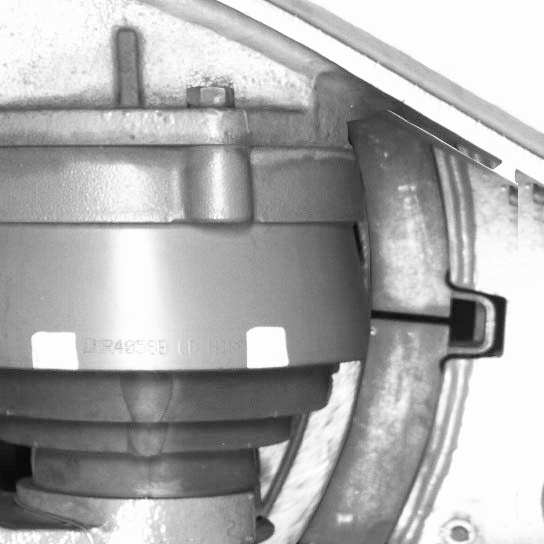ClosedKnifeSwitch: (254, 146, 480, 543)
